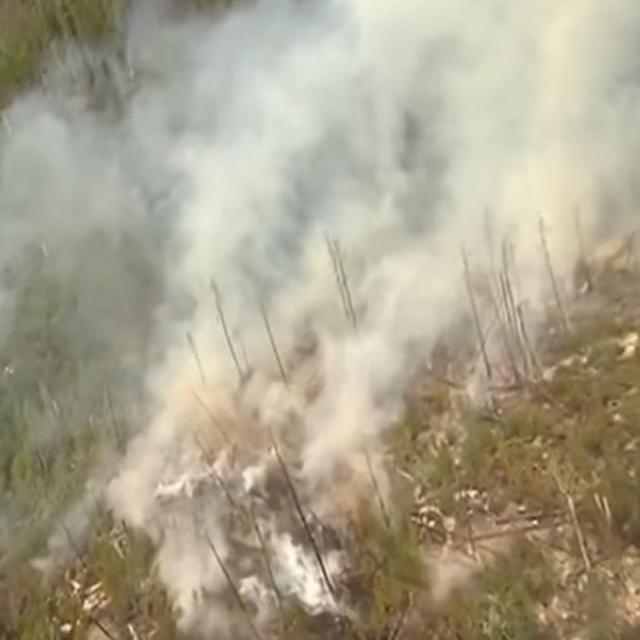Smoke: (0, 5, 640, 555)
